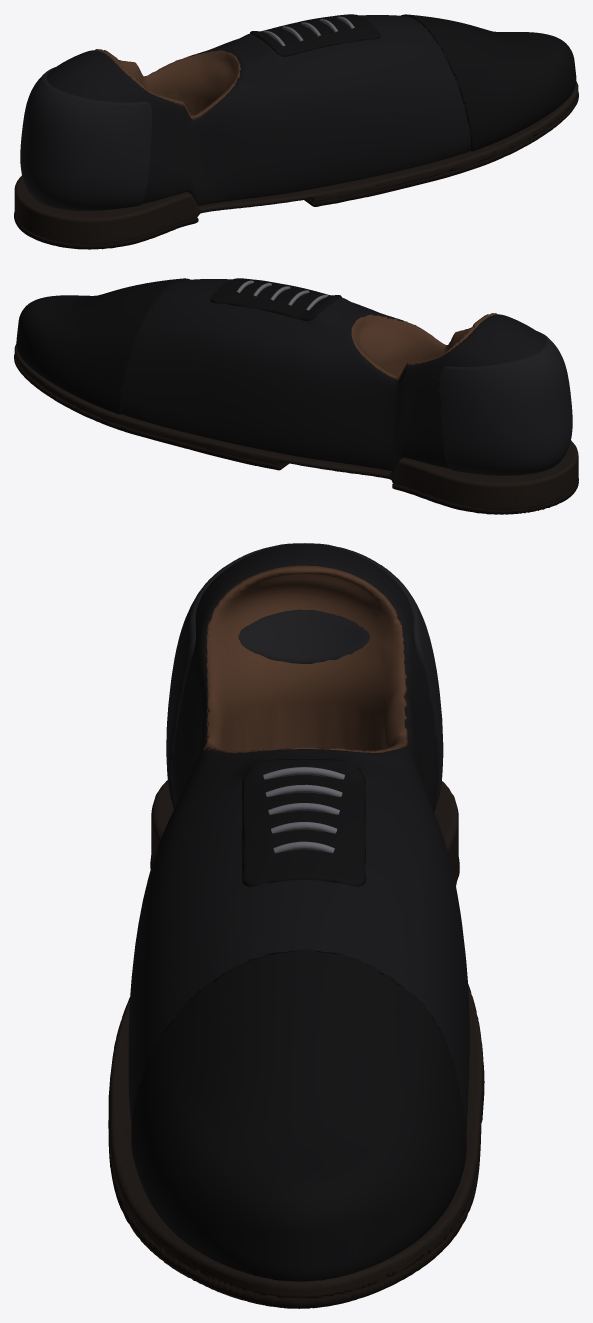
Rendered from midnight-leather-classic.glb.
3 views of the same model, one above another, from view 1: azimuth 30°, elevation 25°; view 2: azimuth 150°, elevation 25°; view 3: azimuth 270°, elevation 25° (orthographic). The views are drawn at different scales.
Visible parts, largest first — view 1: upper, toe_cap, heel_counter, midsole, lining, outsole, object 7; view 2: upper, toe_cap, heel_counter, midsole, lining, outsole, object 7; view 3: toe_cap, upper, lining, midsole, heel_counter, outsole, object 7.
Part boxes in pixels (x1,y1,x2,y2): upper: (46,15,471,205); toe_cap: (250,14,576,151); heel_counter: (20,67,152,210); midsole: (14,81,578,244); lining: (95,49,240,120); outsole: (14,92,578,249); object 7: (263,16,354,46); upper: (121,279,545,470); toe_cap: (16,278,341,414); heel_counter: (439,331,572,475); midsole: (14,344,578,509); lining: (351,313,497,380); outsole: (14,354,578,514); object 7: (236,280,328,310); toe_cap: (131,759,466,1281); upper: (128,543,469,1130); lining: (203,565,407,752); midsole: (109,780,483,1299); heel_counter: (166,543,443,811); outsole: (108,855,484,1308); object 7: (263,767,344,853).
Size of the model in its own units: 0.9788 by 0.2723 by 0.2911.
